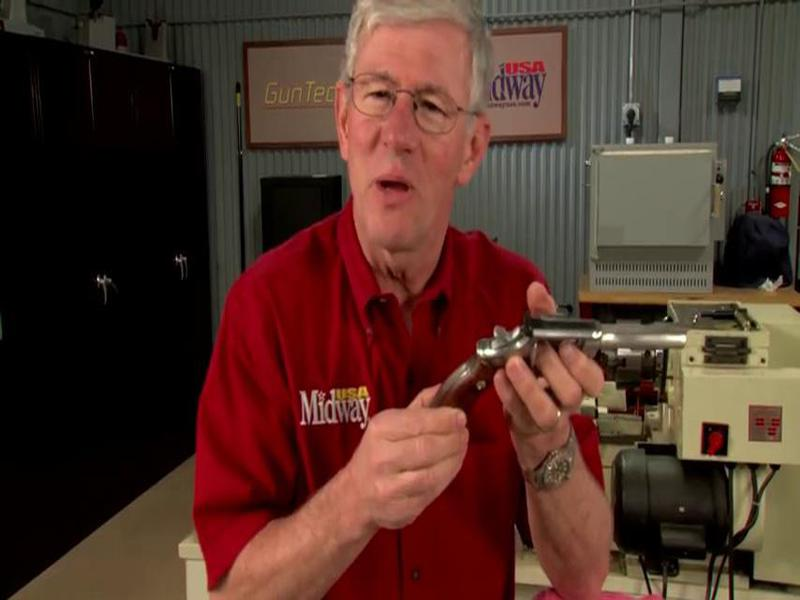Revolver: (405, 291, 721, 468)
